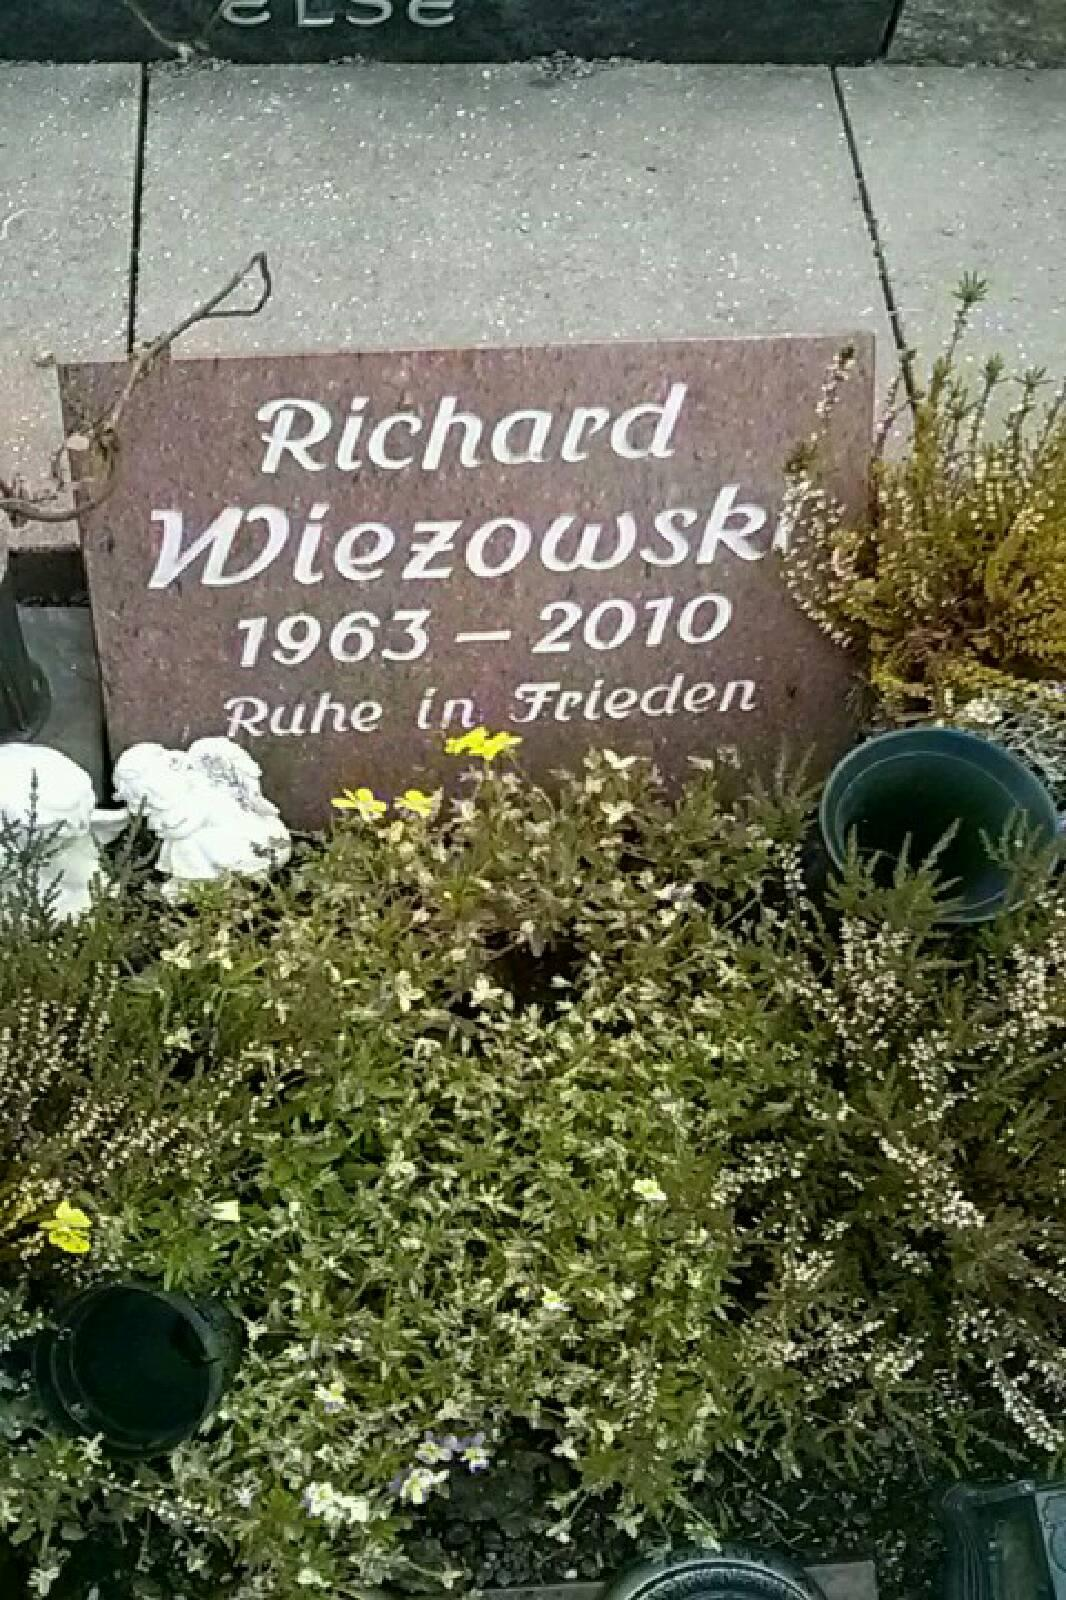upright: (26, 326, 936, 883)
